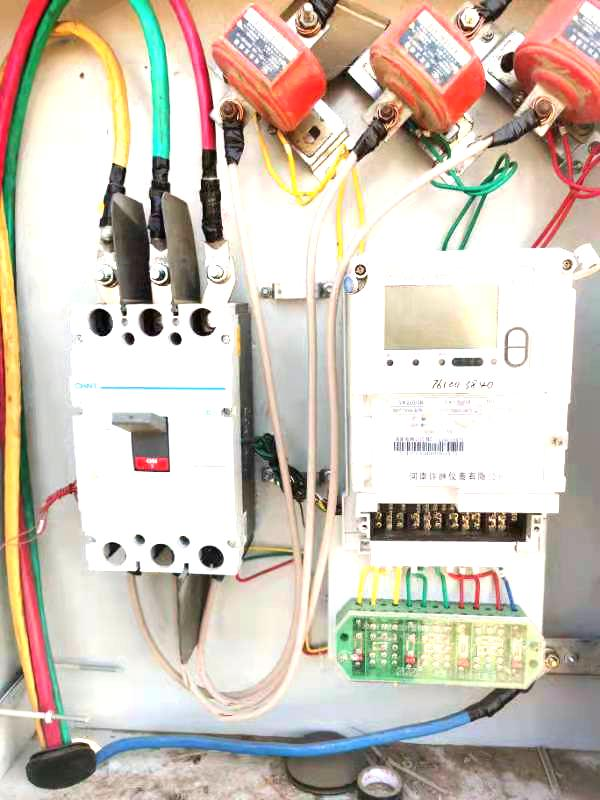digital: (347, 251, 571, 510)
